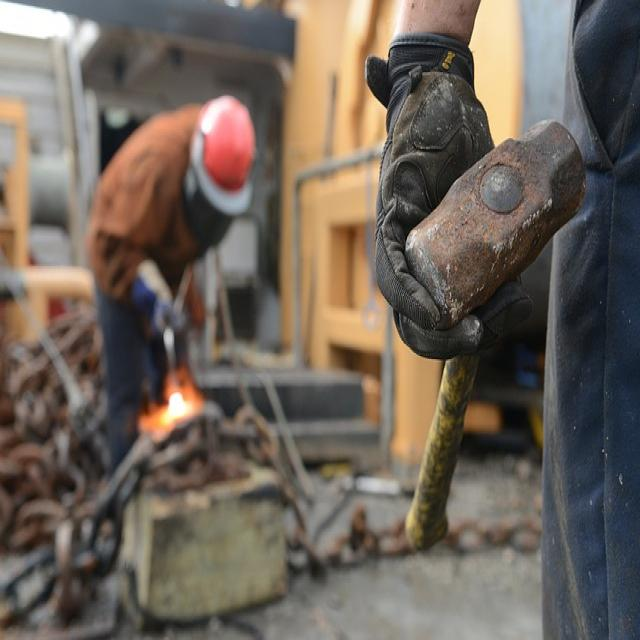Safety-Helmet: (186, 87, 262, 219)
